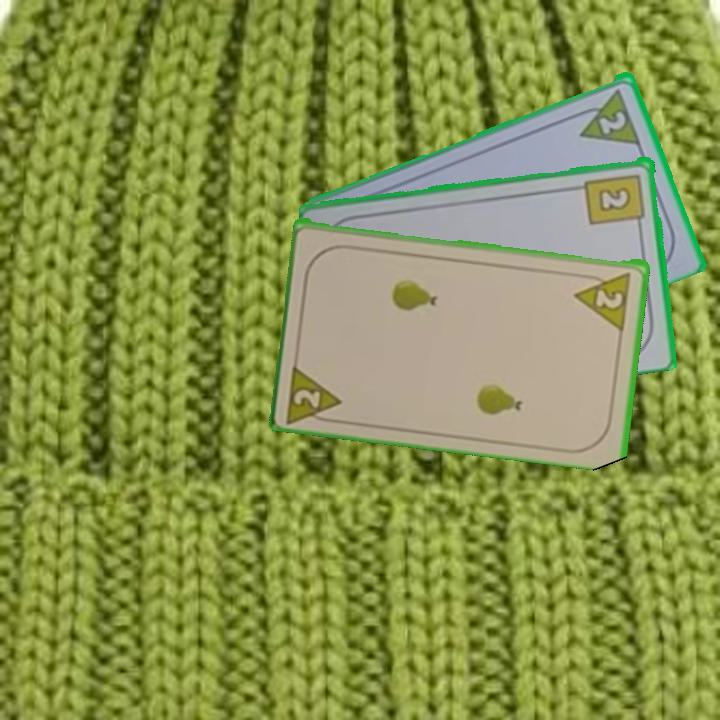2b: (582, 170, 648, 231)
2p: (570, 84, 643, 147), (283, 358, 346, 426), (572, 268, 634, 331)
